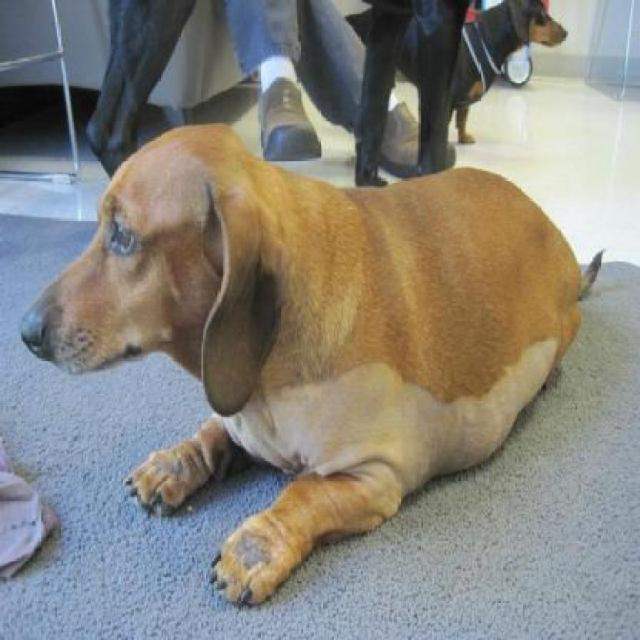Dog: (17, 115, 608, 608)
